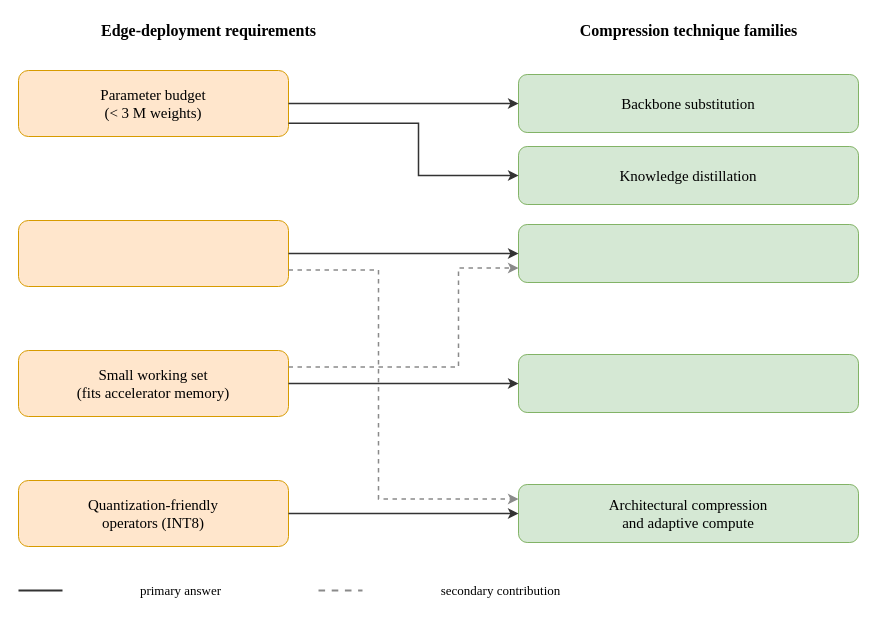
Some shapes in this 896 by 619 pixel diagram are drawn without their labels. Each missing label, with the centre of its shape:
Cost-volume compression: (x=688, y=383)
Iterative-loop compression: (x=688, y=253)
Real-time latency (≥ 25 FPS): (x=153, y=253)
